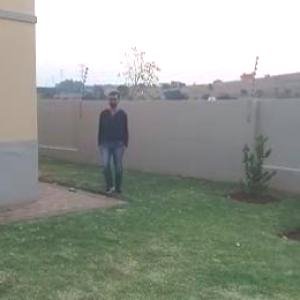follow: (96, 87, 135, 206)
